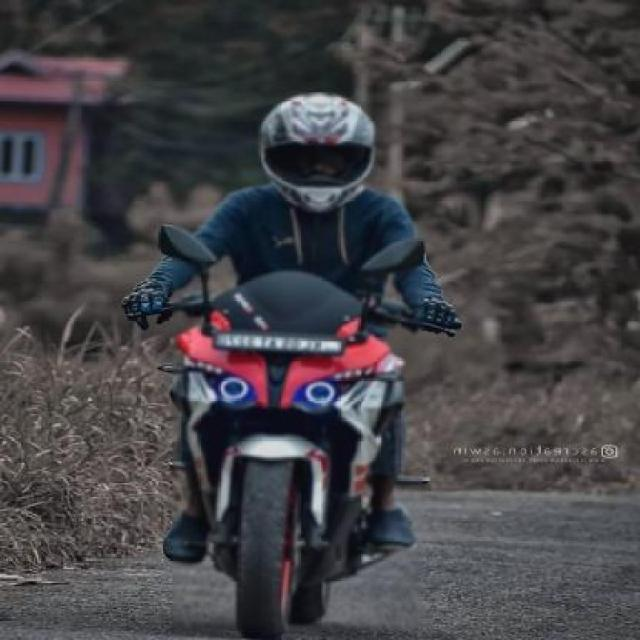helmet: (237, 90, 396, 228)
motorcycle: (99, 75, 462, 640)
